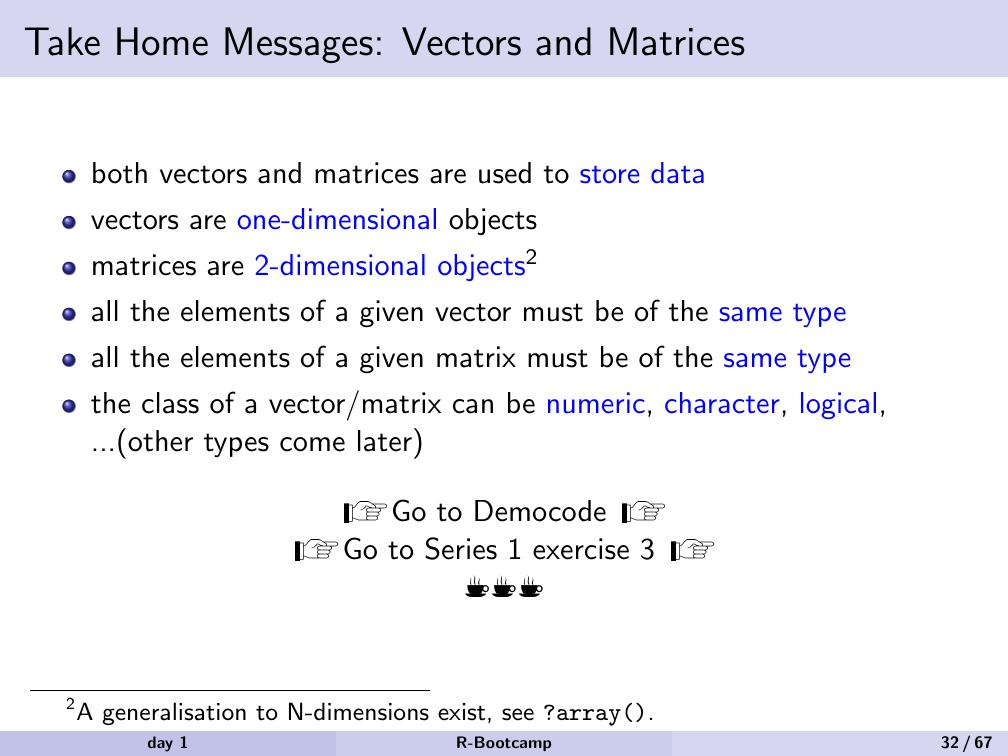Title: (16, 13, 759, 70)
